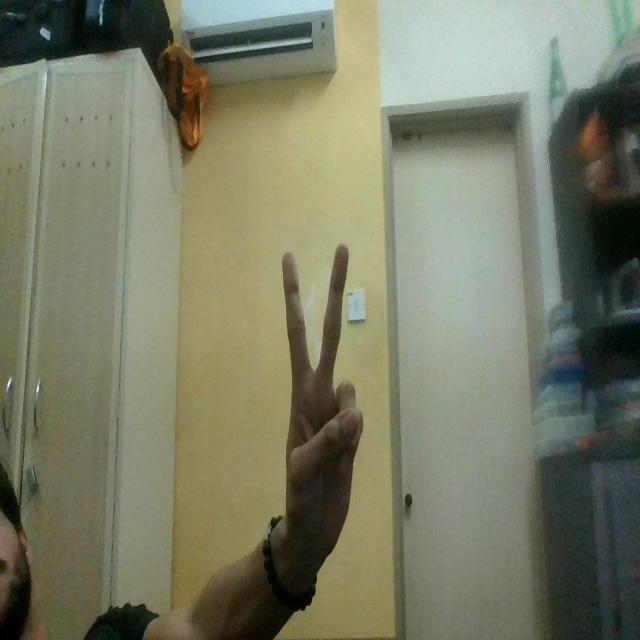peace: (266, 237, 372, 576)
